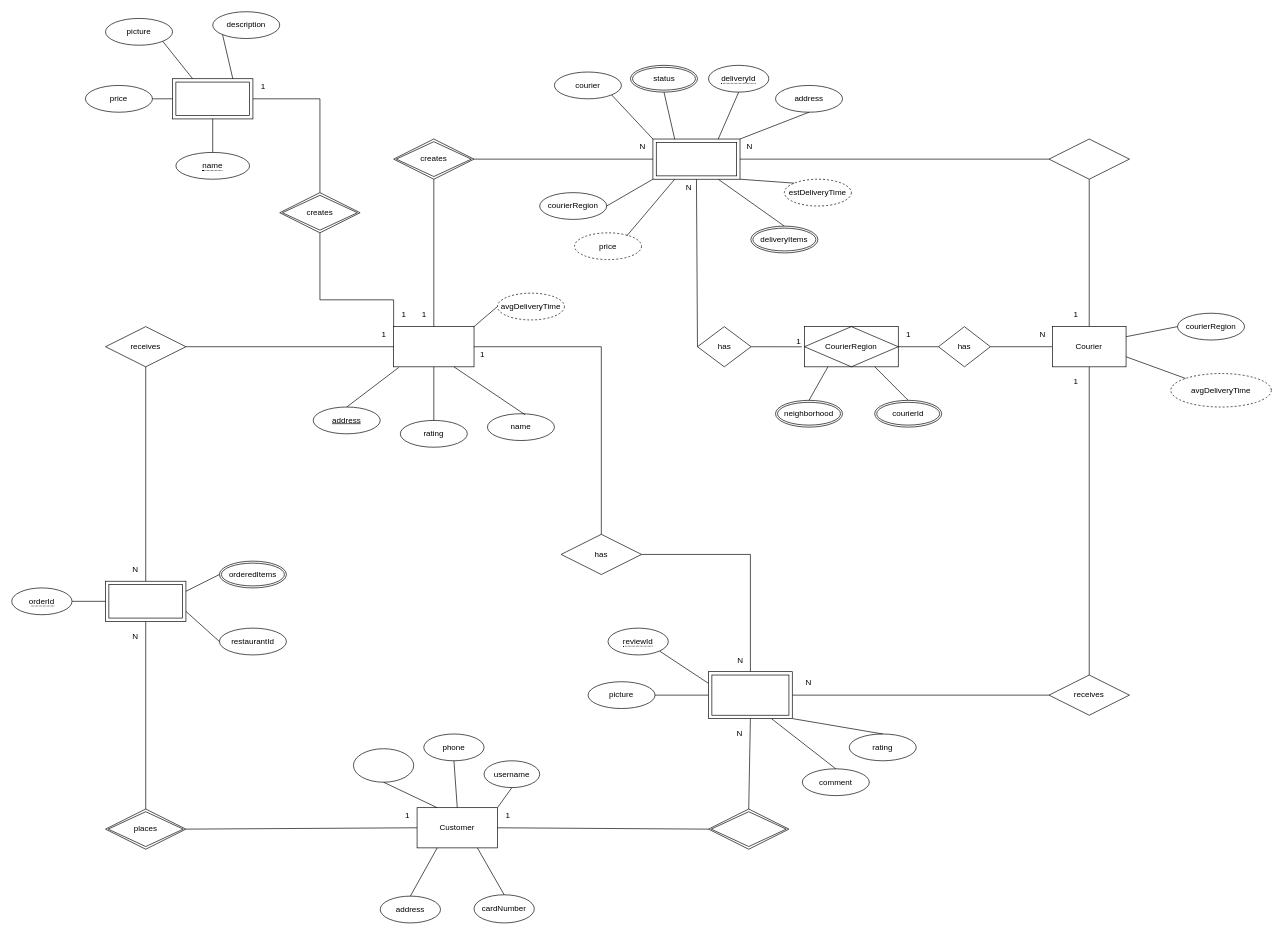
Image size: 1283x935. Some labels were removed from this diagram. Here are the shapes that lost their labels. From the top down, the centre of each, then its label:
the point at 212,98: MenuItem
the point at 696,158: Delivery
the point at 1088,158: gets assigned
the point at 433,346: Restaurant
the point at 145,601: Order
the point at 750,695: Review
the point at 383,765: email
the point at 748,828: writes
